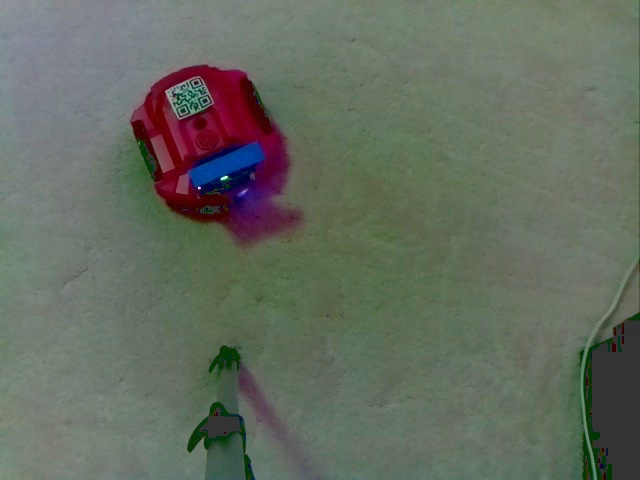board: (178, 140, 271, 194)
chassis: (127, 60, 283, 212)
